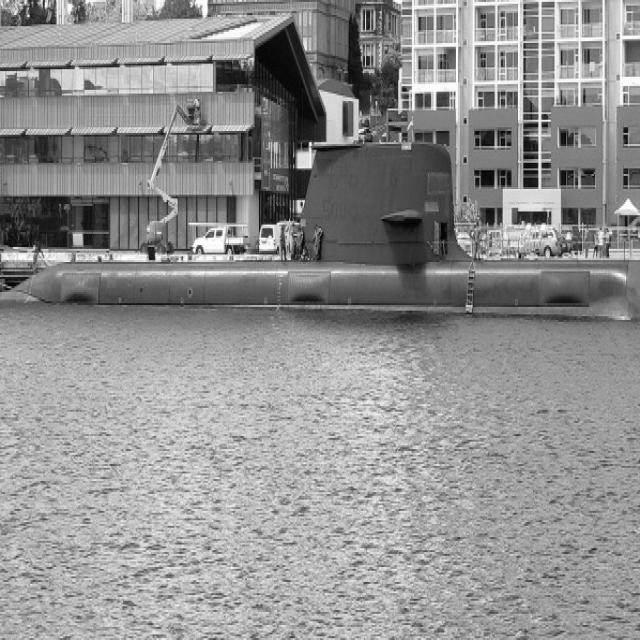submarine: (15, 141, 640, 323)
